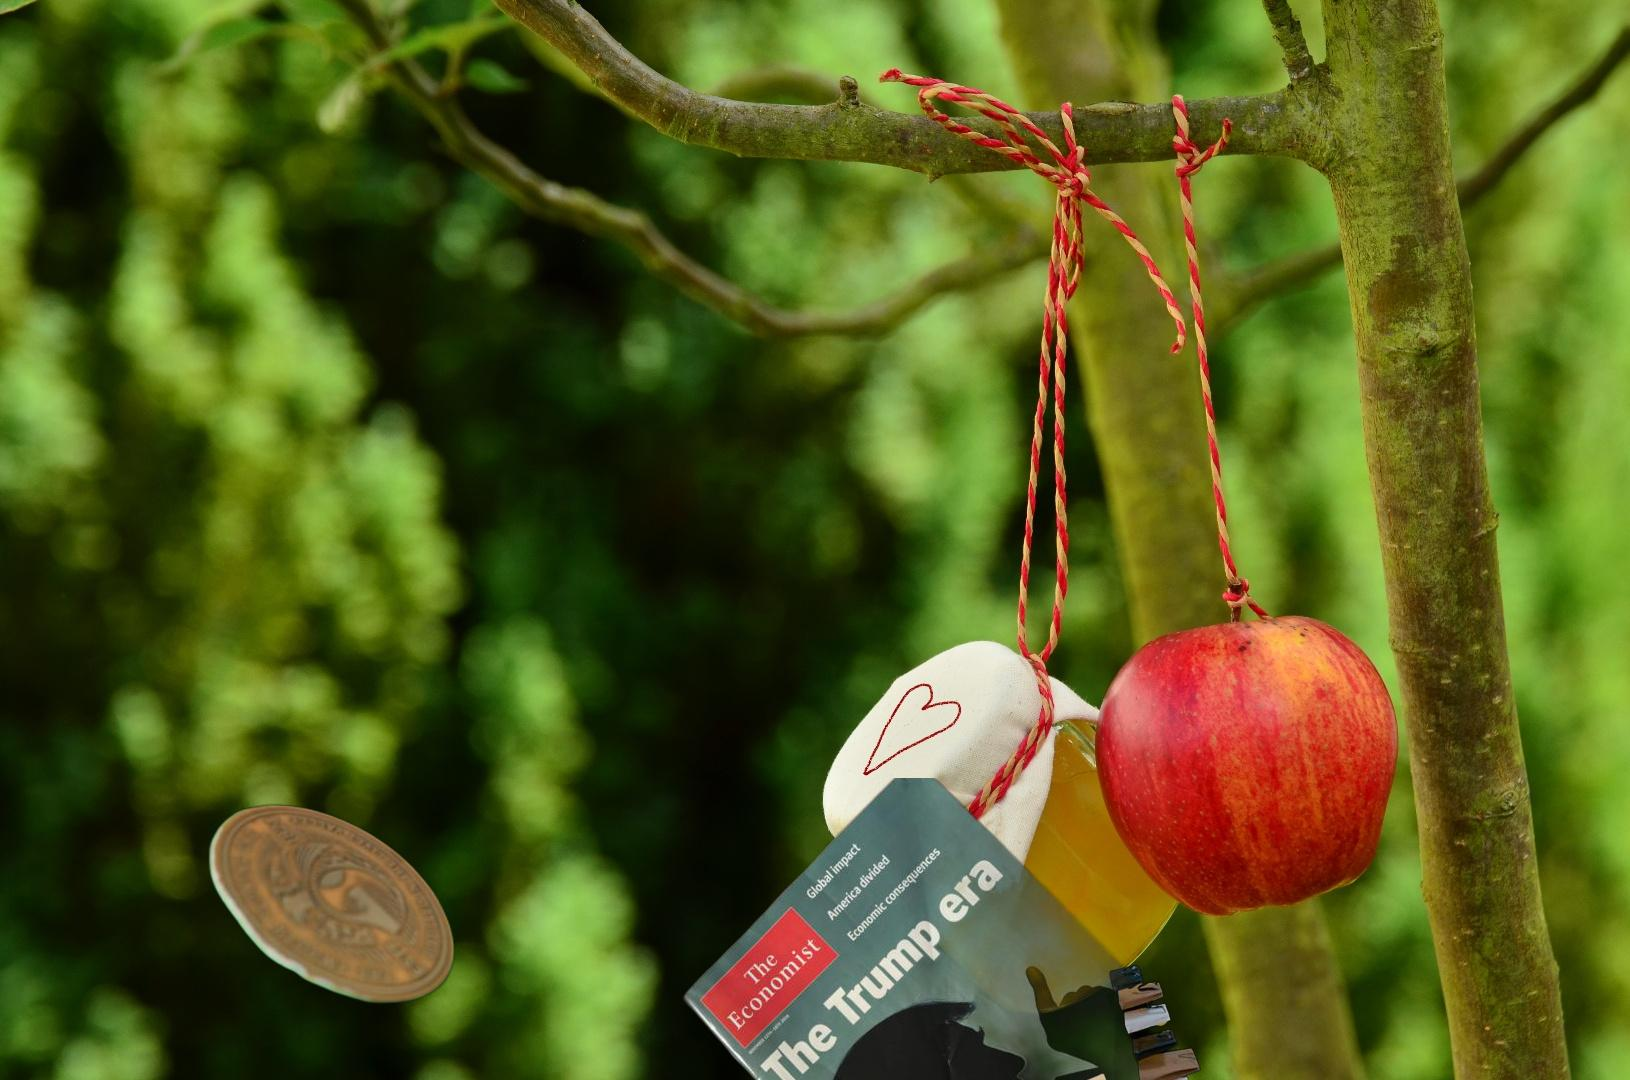glass: (204, 802, 459, 1008)
paper: (665, 777, 1177, 1080)
paper-bag: (1012, 962, 1204, 1080)
